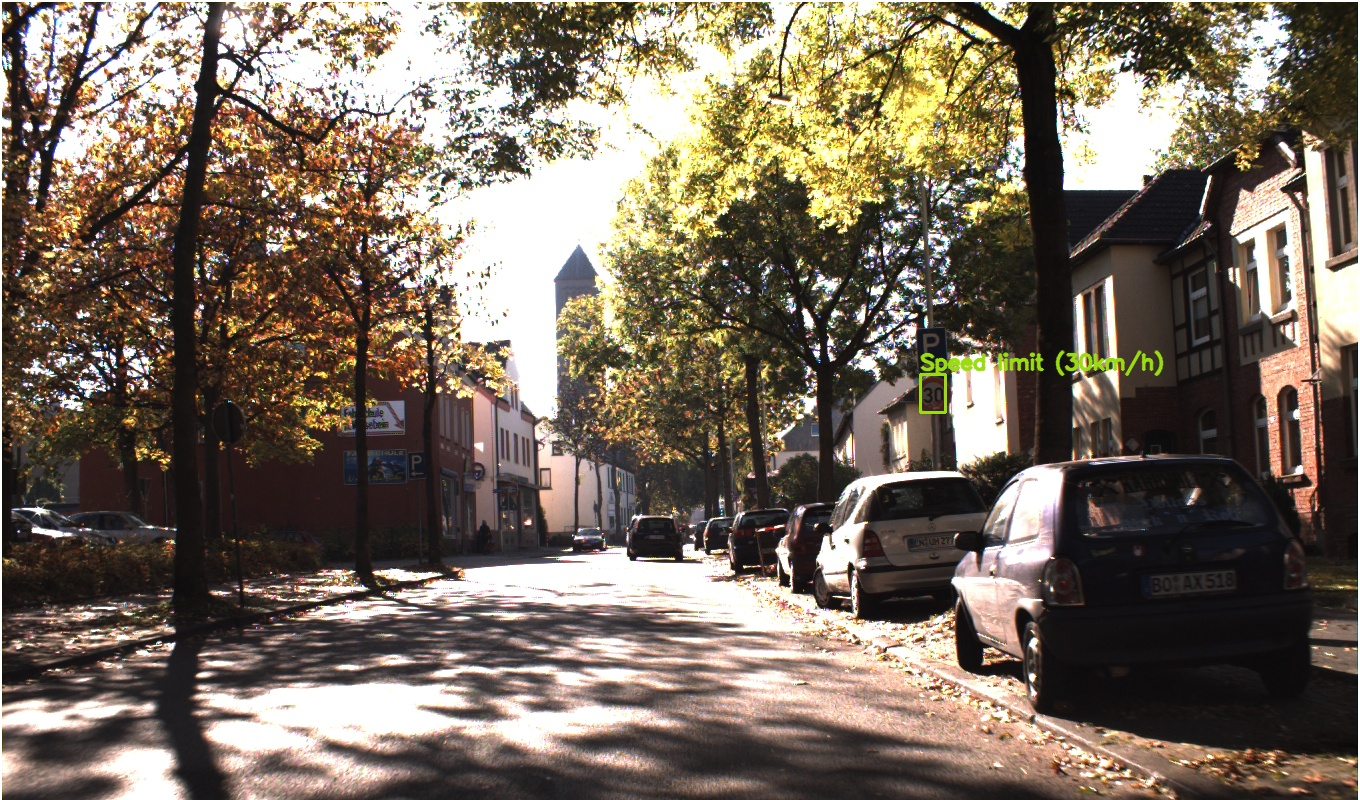Priority road: (1120, 444, 1142, 464)
